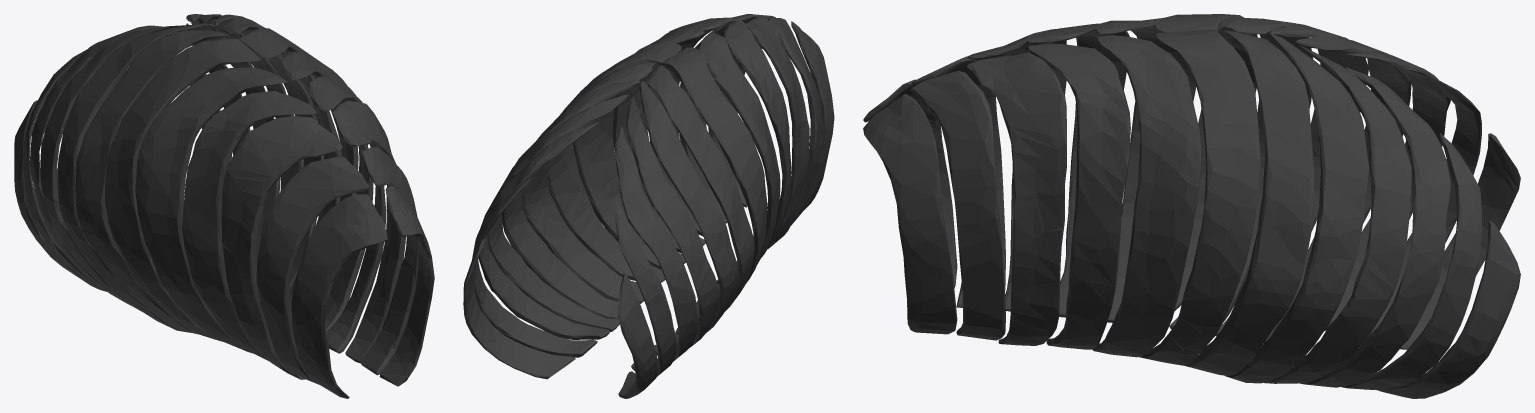
Rendered from m_intercostales_interni.glb.
The picture shows the model from 3 angles, left to right: view 1: azimuth 30°, elevation 25°; view 2: azimuth 150°, elevation 25°; view 3: azimuth 270°, elevation 25°; orthographic projection. The views are drawn at different scales.
Visible parts, largest first — view 1: m_intercostales_interni; view 2: m_intercostales_interni; view 3: m_intercostales_interni.
Part boxes in pixels (<box>): m_intercostales_interni: <box>14,14,434,398</box>; m_intercostales_interni: <box>463,14,834,398</box>; m_intercostales_interni: <box>863,14,1520,398</box>.
Size of the model in its own units: 0.00477 by 0.00552 by 0.00954.
Materials: 1 (1 with a texture image).
